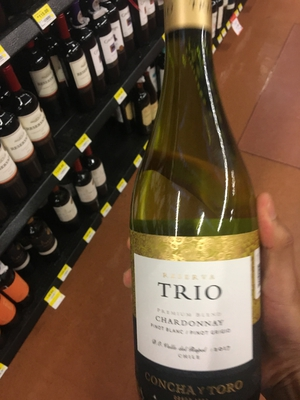trio chardonnay: (121, 22, 276, 400)
